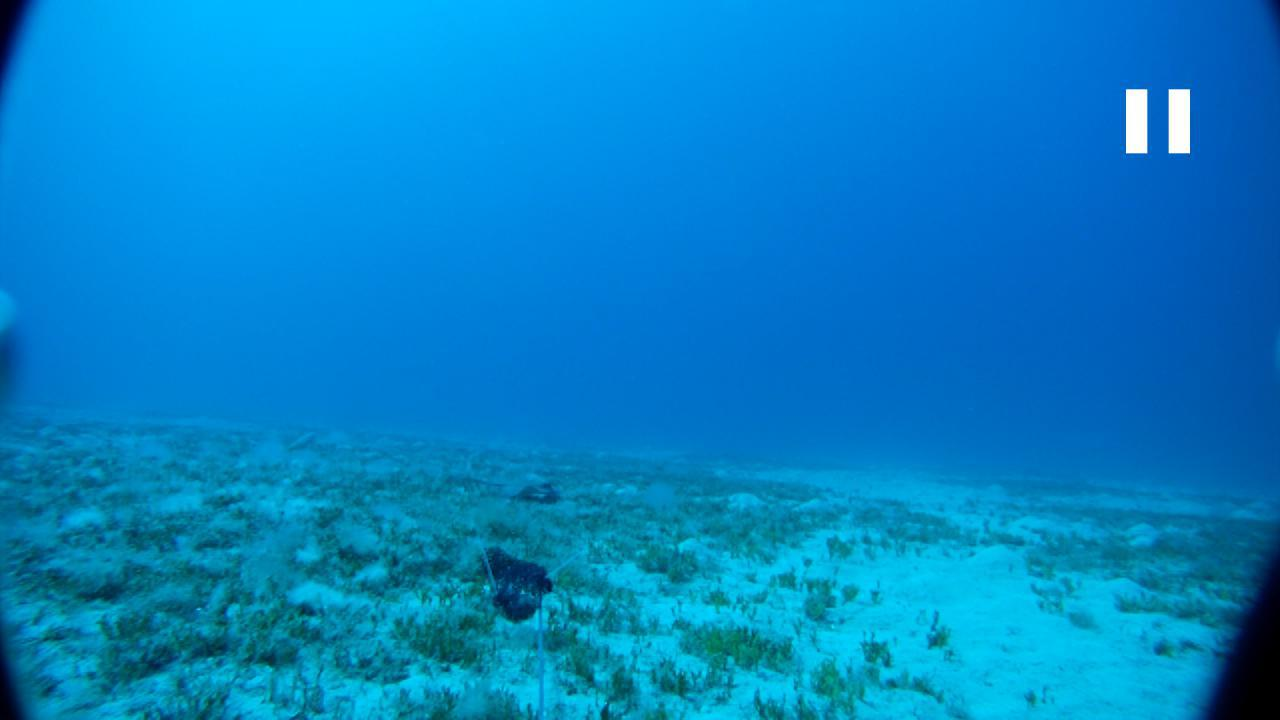dasyatis: (462, 474, 560, 501)
